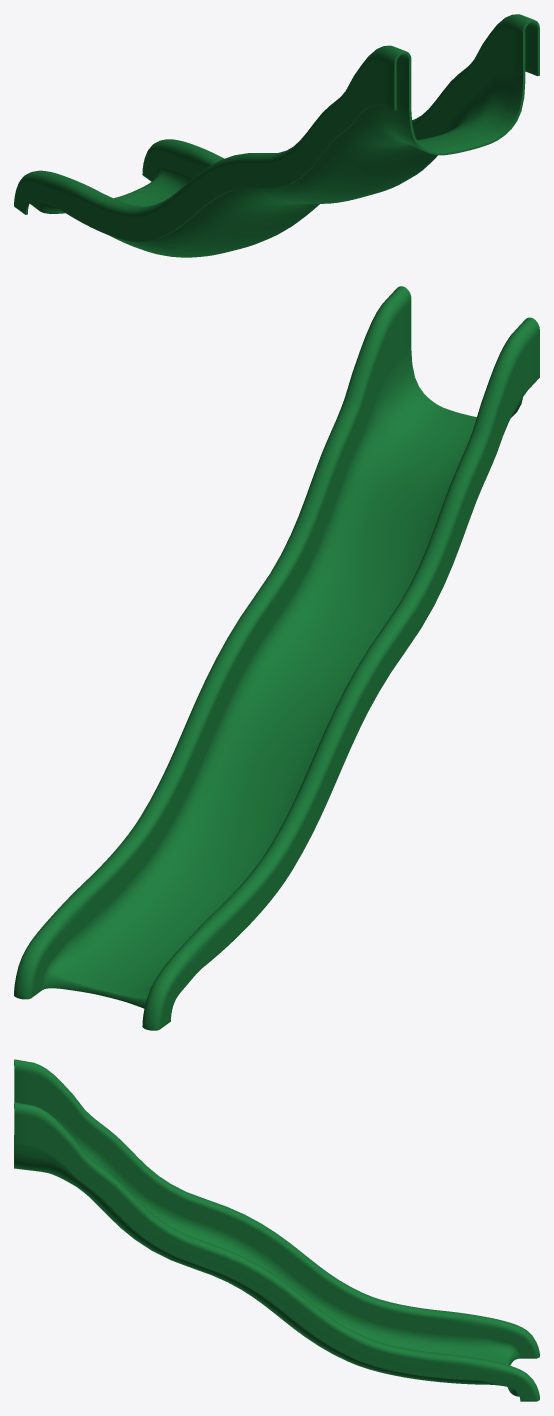
File: slide.fbx
The picture shows the model from 3 angles, top to bottom: view 1: azimuth 30°, elevation 25°; view 2: azimuth 150°, elevation 25°; view 3: azimuth 270°, elevation 25°; orthographic projection. The views are drawn at different scales.
Parts seen in each view (by area): view 1: slide; view 2: slide; view 3: slide.
Part boxes in pixels (<box>): slide: <box>14,14,539,257</box>; slide: <box>14,286,539,1030</box>; slide: <box>14,1059,539,1401</box>.
Bounding box in the file's own units: 0.6288 × 2.87 × 1.78.
